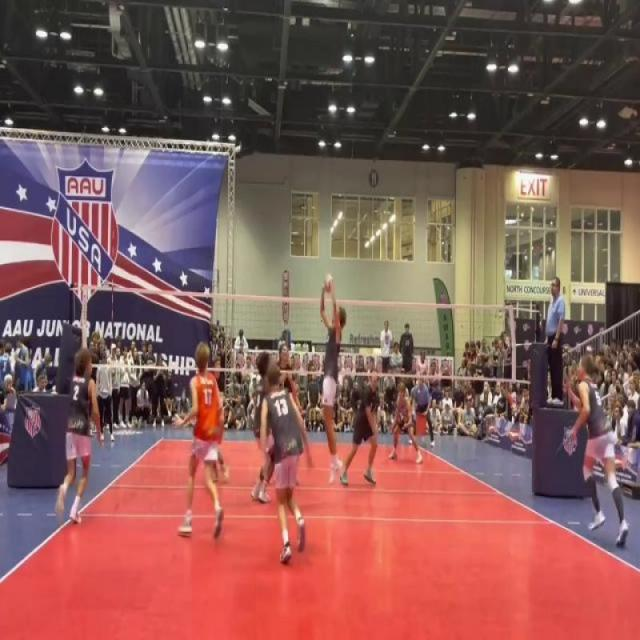volleyball: (322, 272, 335, 295)
